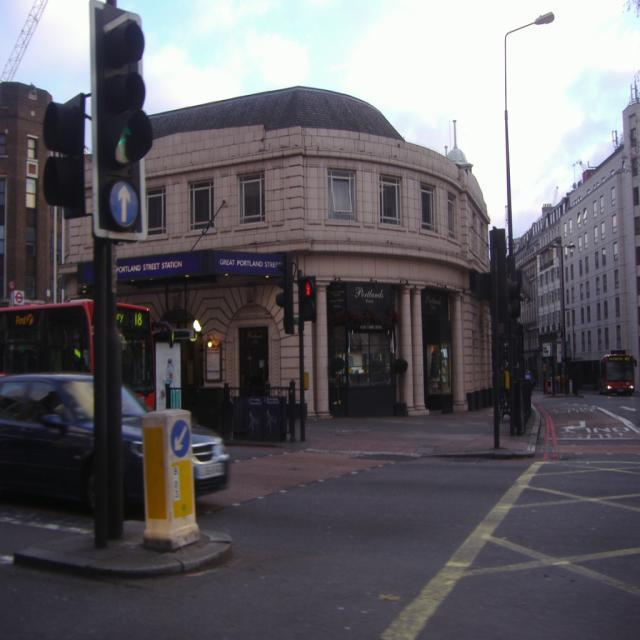traffic light: (88, 6, 161, 196), (301, 279, 317, 322)
